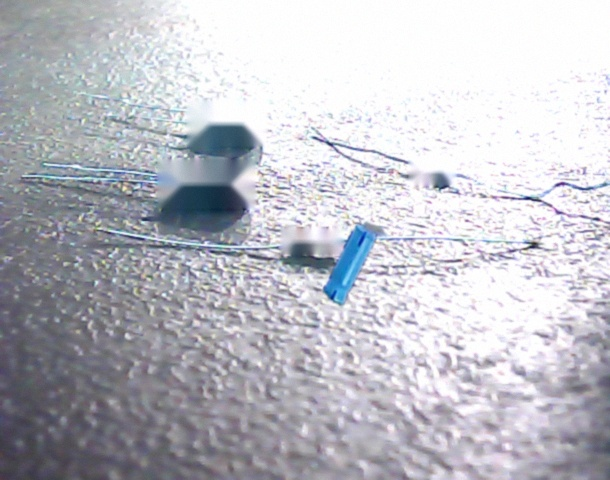capacitor: (323, 223, 385, 306)
